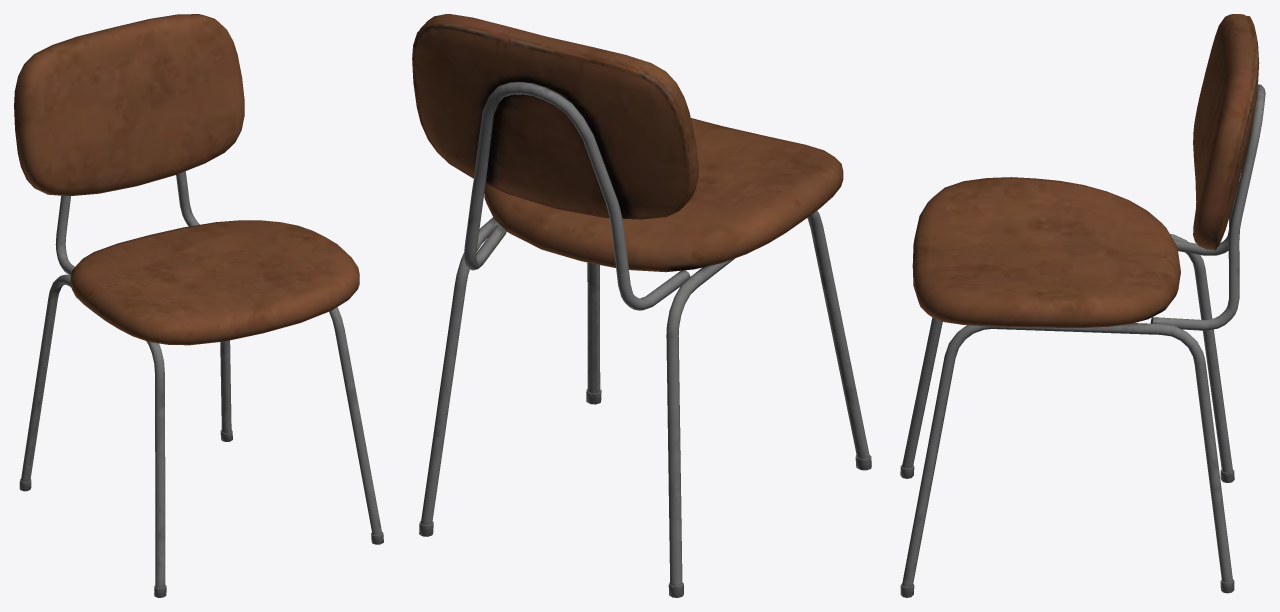
File: SM_Chair4_b90377.glb
The picture shows the model from 3 angles, left to right: view 1: azimuth 30°, elevation 25°; view 2: azimuth 150°, elevation 25°; view 3: azimuth 270°, elevation 25°; orthographic projection. The views are drawn at different scales.
Size of the model in its own units: 0.501 by 0.8511 by 0.5851.
Materials: 1 (1 with a texture image).
